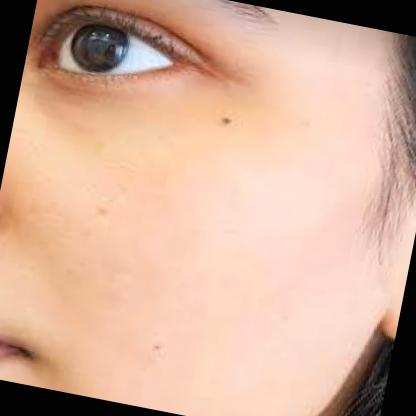Healthy Skin: (0, 73, 416, 415)
